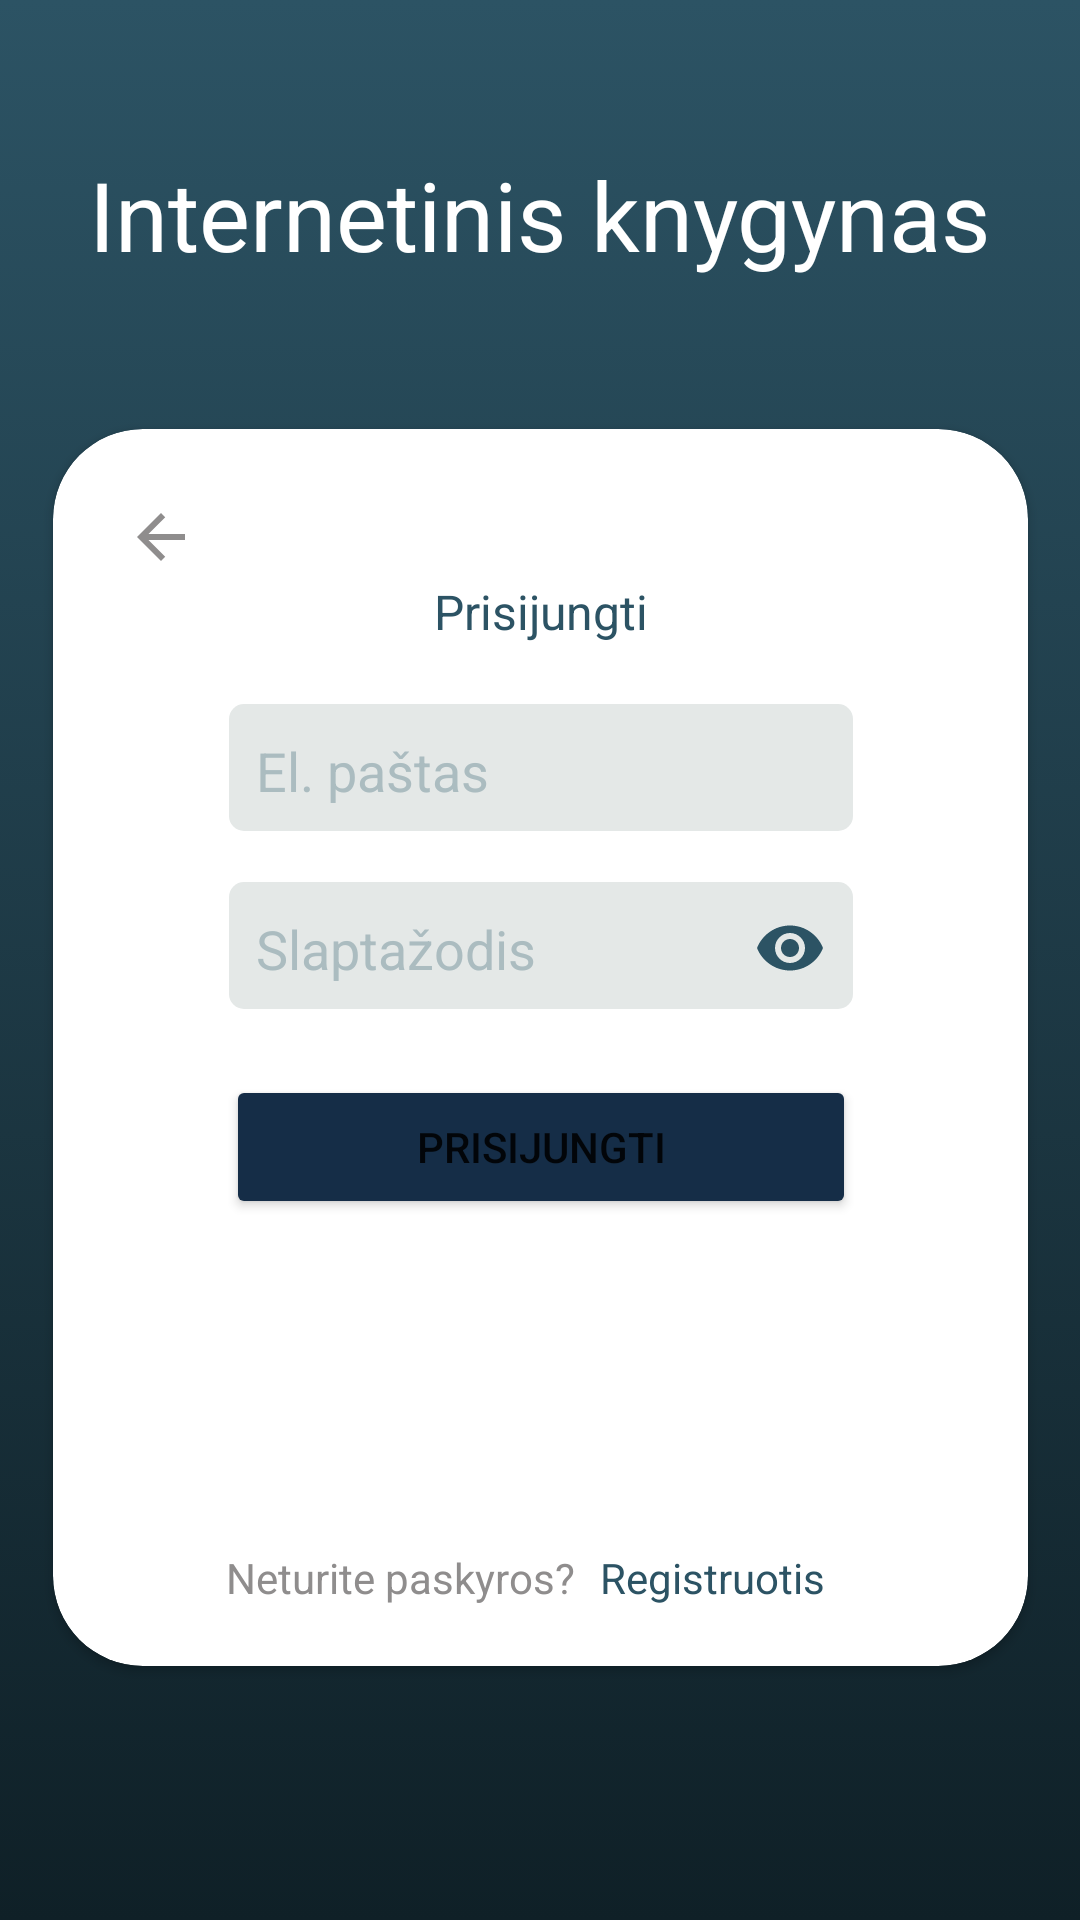

Named icons in this screenshot (1080w x 1920h) and their bounding boxes, (x1, y1, x2, y2):
arrow back: (137, 513, 185, 561)
